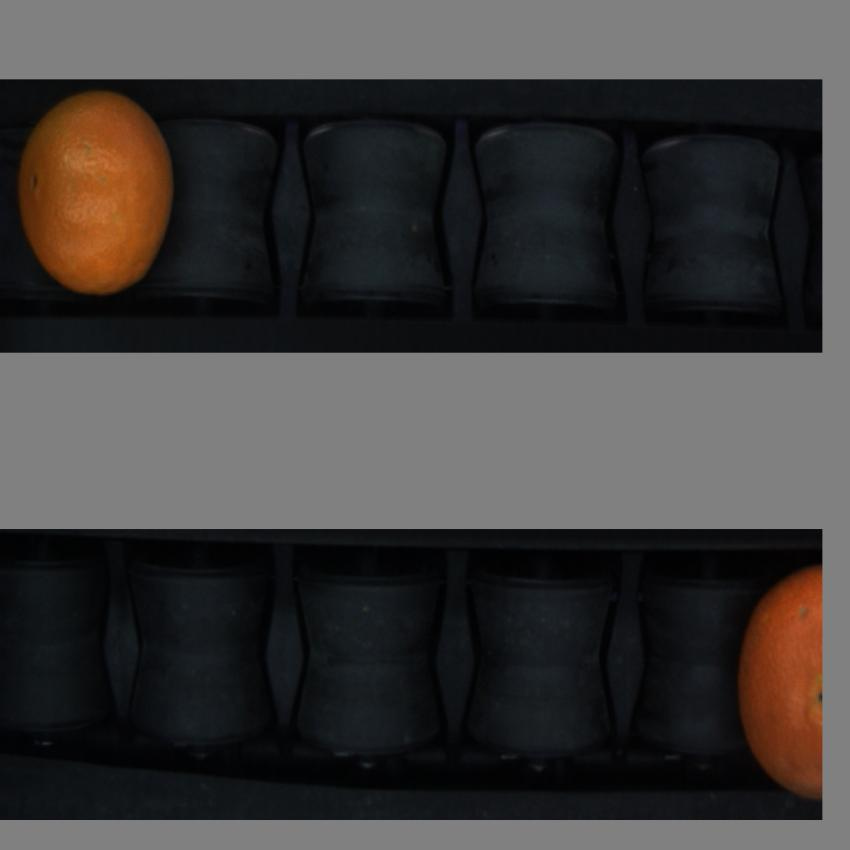Buen estado: (16, 84, 182, 298), (732, 560, 822, 808)
